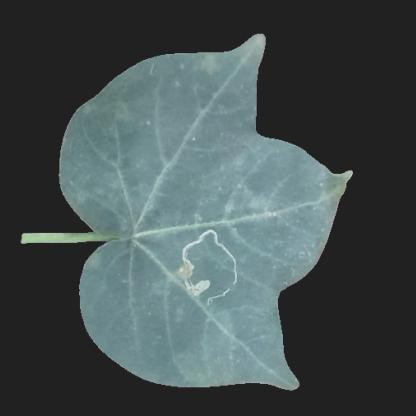healthy: (130, 62, 250, 220), (194, 298, 276, 379), (253, 169, 323, 257), (122, 283, 188, 374), (109, 223, 201, 283), (78, 108, 126, 218)
